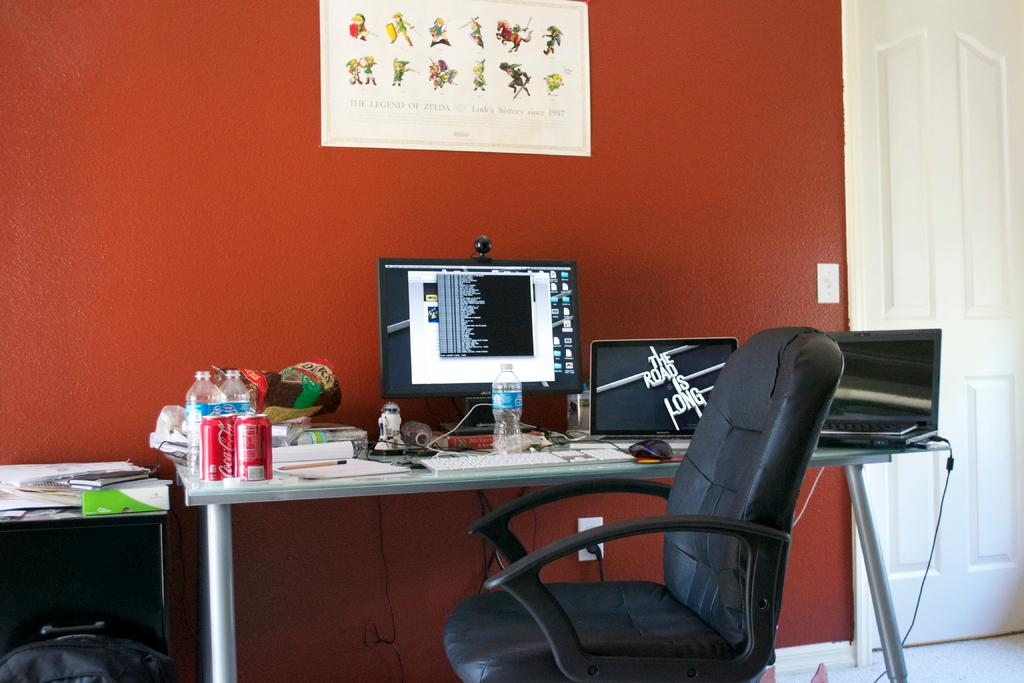Chair: (441, 325, 844, 682)
